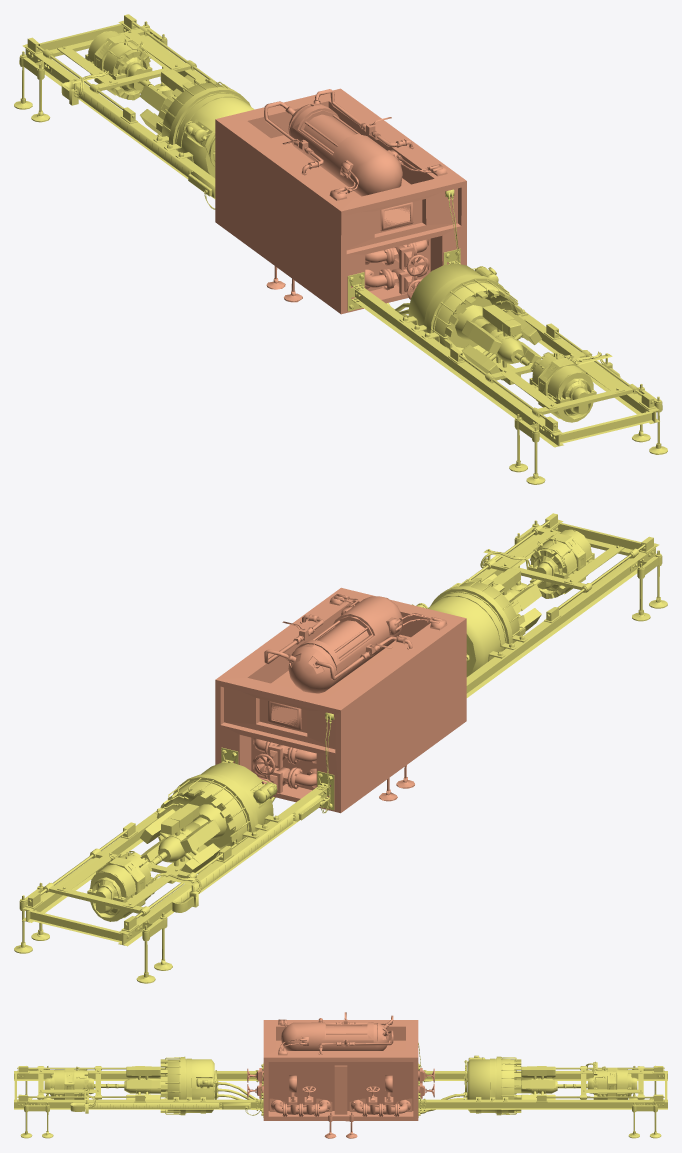
The model's file is generateur_long-opti.fbx.
3 views of the same model, one above another, from view 1: azimuth 30°, elevation 25°; view 2: azimuth 150°, elevation 25°; view 3: azimuth 270°, elevation 25° (orthographic). The views are drawn at different scales.
Parts seen in each view (by area): view 1: part1a, part2a, part3a; view 2: part1a, part3a, part2a; view 3: part1a, part2a, part3a.
Part boxes in pixels (bbox=[...]): part1a: bbox=[215, 88, 466, 314]; part2a: bbox=[347, 189, 667, 484]; part3a: bbox=[14, 14, 254, 209]; part1a: bbox=[215, 587, 466, 813]; part3a: bbox=[14, 712, 334, 983]; part2a: bbox=[412, 513, 667, 697]; part1a: bbox=[247, 1012, 434, 1138]; part2a: bbox=[14, 1056, 263, 1138]; part3a: bbox=[418, 1043, 667, 1138].
Bounding box in the file's own units: 75.76 × 77.86 × 491.
